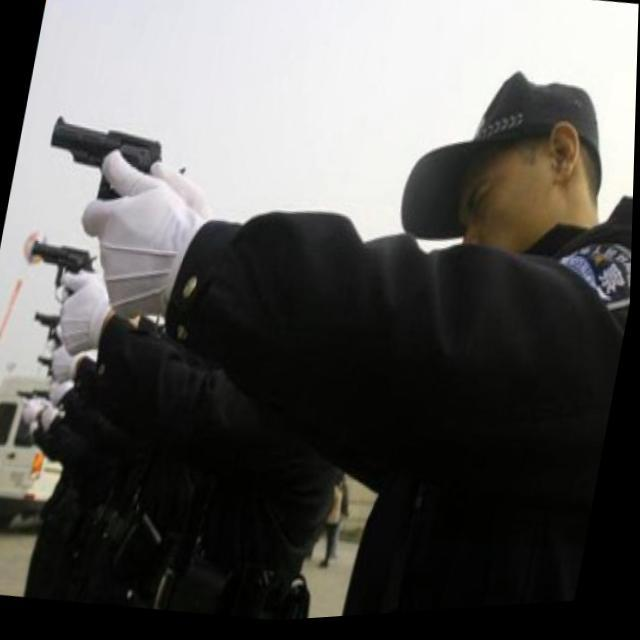weapon: (39, 104, 174, 218), (22, 226, 108, 307), (31, 308, 76, 353), (18, 390, 60, 412), (37, 353, 68, 379)
